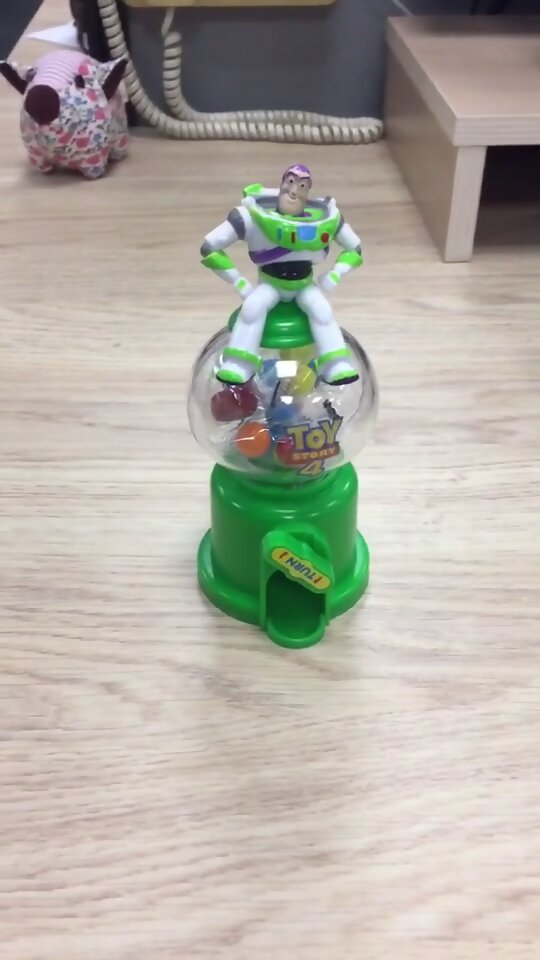buzz: (183, 156, 388, 656)
